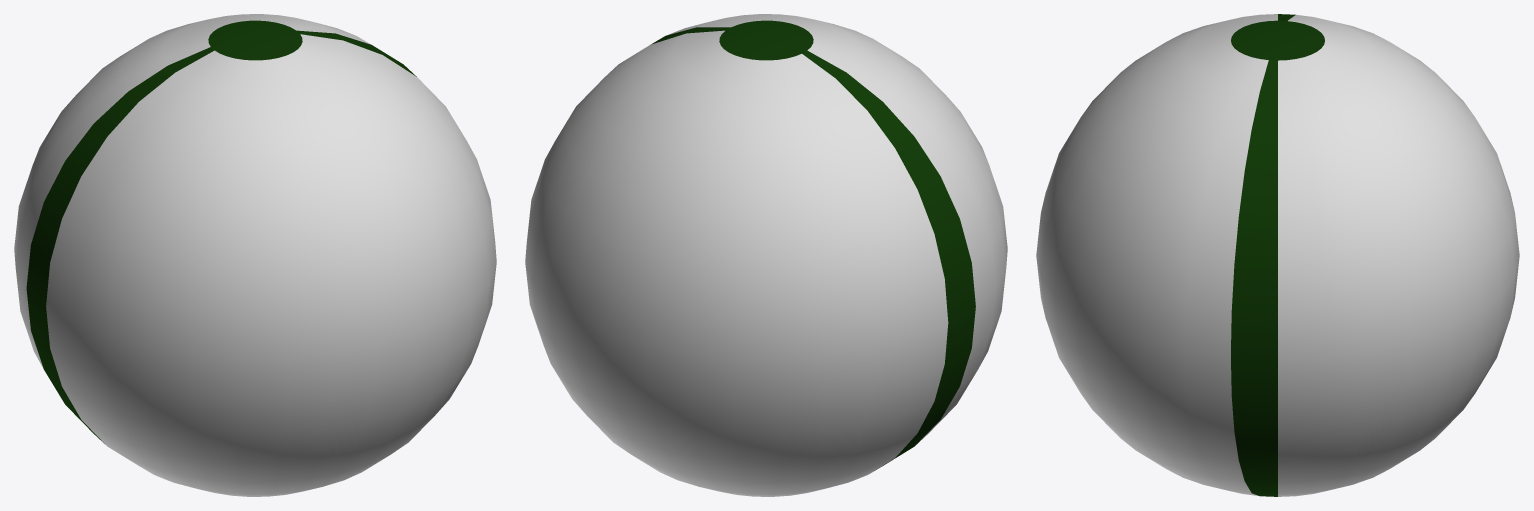
File: PlayerSphere.fbx
3 views of the same model, side by side, from view 1: azimuth 30°, elevation 25°; view 2: azimuth 150°, elevation 25°; view 3: azimuth 270°, elevation 25° (orthographic).
Visible parts, largest first — view 1: Sphere; view 2: Sphere; view 3: Sphere.
Part boxes in pixels (bbox=[...]): Sphere: bbox=[14, 14, 496, 496]; Sphere: bbox=[525, 14, 1007, 496]; Sphere: bbox=[1036, 14, 1519, 496].
Size of the model in its own units: 200 by 200 by 200.
